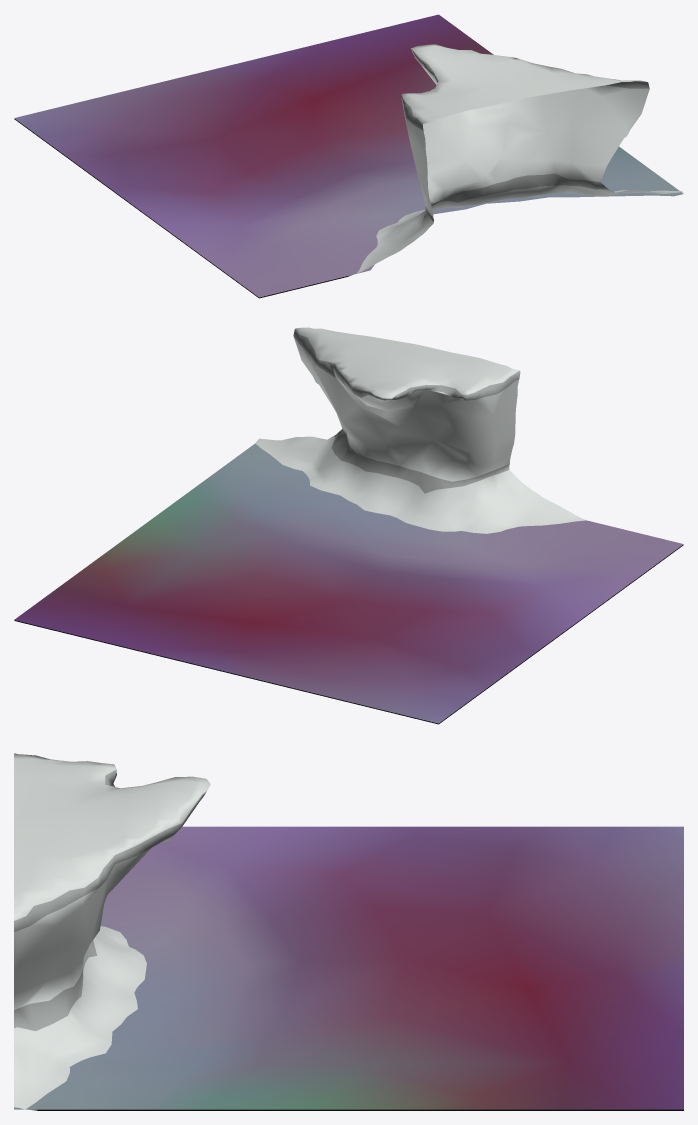
3 renders of one model, top to bottom at view 1: azimuth 30°, elevation 25°; view 2: azimuth 150°, elevation 25°; view 3: azimuth 270°, elevation 25°, orthographic. The views are drawn at different scales.
Visible parts, largest first — view 1: G:\FFXIV-MapTools\exports\r2f1\bg\ex1\01_roc_r2\fld\r2f1\bgp (×5); view 2: G:\FFXIV-MapTools\exports\r2f1\bg\ex1\01_roc_r2\fld\r2f1\bgp (×5); view 3: G:\FFXIV-MapTools\exports\r2f1\bg\ex1\01_roc_r2\fld\r2f1\bgp (×5).
Boxes of the visible parts, x1,y1,x2,y2 form: G:\FFXIV-MapTools\exports\r2f1\bg\ex1\01_roc_r2\fld\r2f1\bgp (×5): (14, 14, 683, 298); G:\FFXIV-MapTools\exports\r2f1\bg\ex1\01_roc_r2\fld\r2f1\bgp (×5): (14, 327, 683, 724); G:\FFXIV-MapTools\exports\r2f1\bg\ex1\01_roc_r2\fld\r2f1\bgp (×5): (14, 753, 683, 1110).
Size of the model in its own units: 128 by 41.88 by 128.
